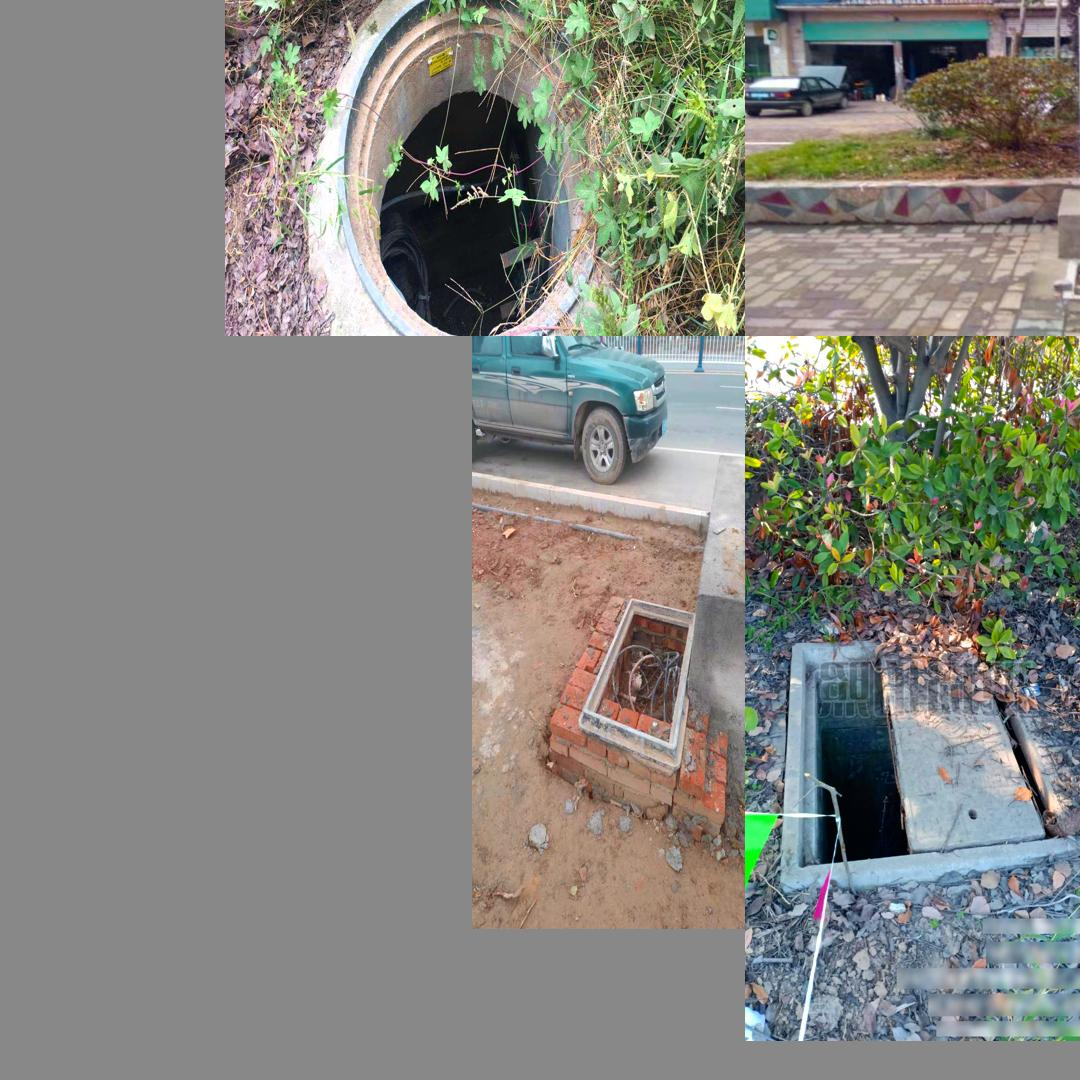lose: (324, 0, 624, 329), (778, 626, 1080, 890), (575, 595, 696, 777), (1063, 256, 1080, 310)
